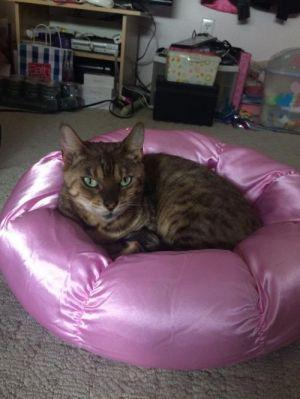bengal: (51, 115, 150, 237)
